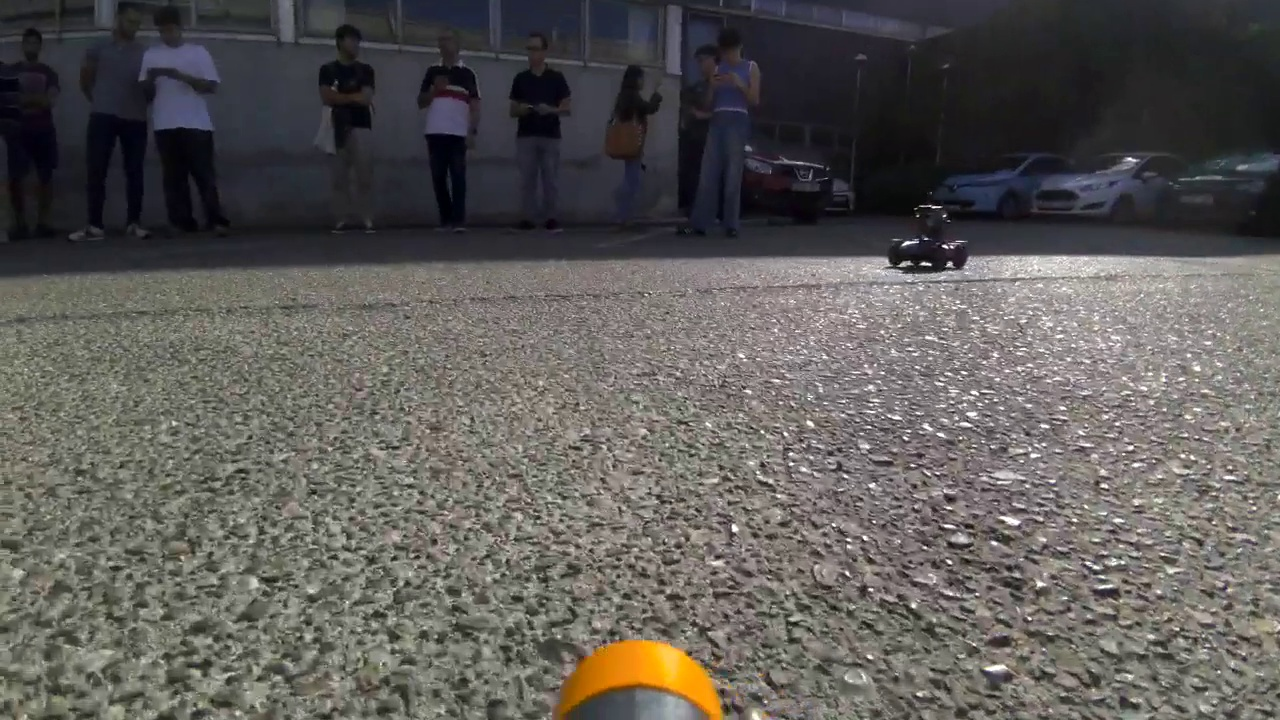robot: (882, 193, 974, 277)
